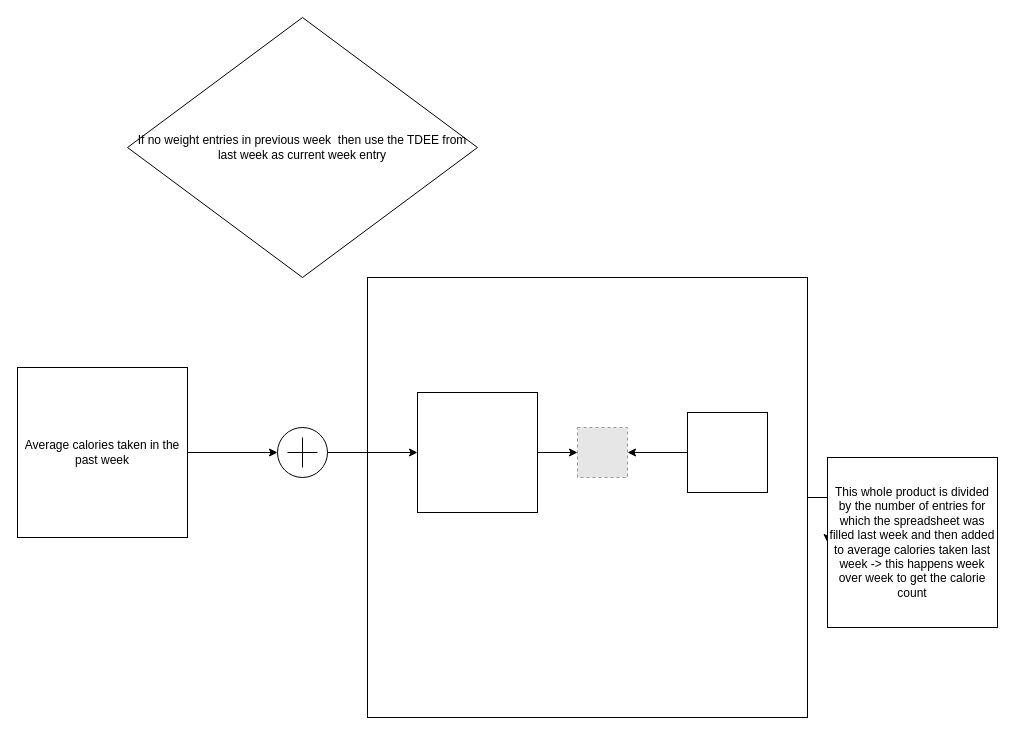
Image size: 1015x743. Some labels were removed from this diagram. Grey dashed boxes stand in for pictures. Each missing label, with the centre of its shape:
"amount of weight loss (last week weight - avg, weight of current week" goes at point 477,452.
"Weight factor taken out in previous tab" goes at point 727,452.
